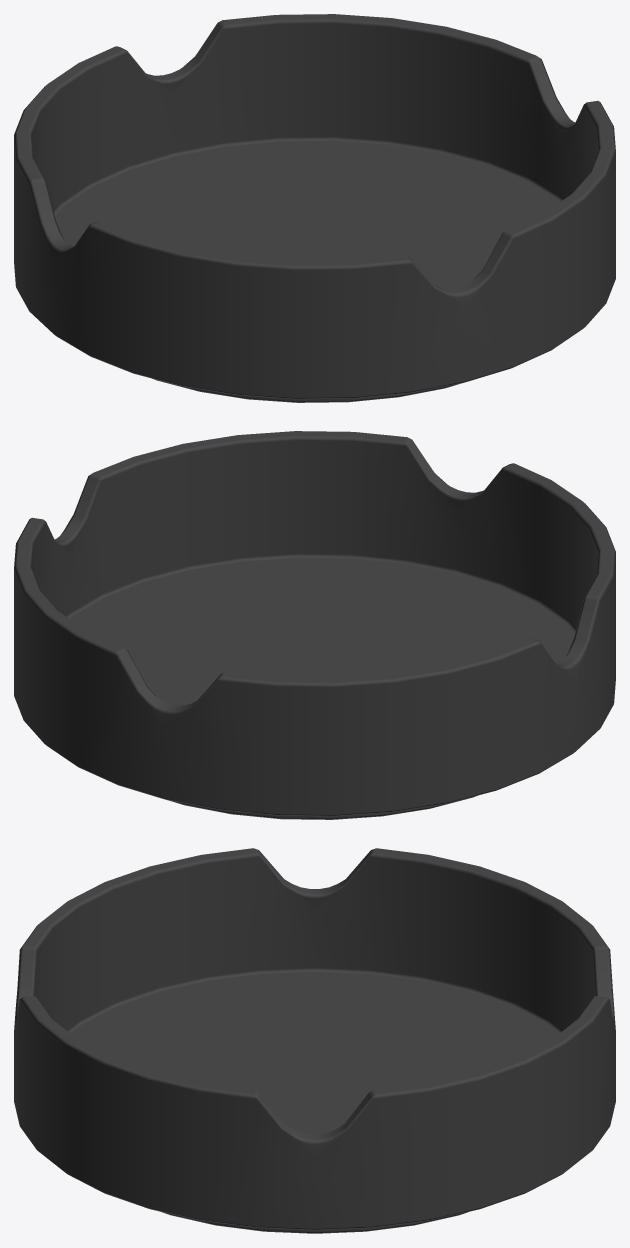
File: SM_AshtrayBlackS.fbx
The picture shows the model from 3 angles, top to bottom: view 1: azimuth 30°, elevation 25°; view 2: azimuth 150°, elevation 25°; view 3: azimuth 270°, elevation 25°; orthographic projection.
Parts seen in each view (by area): view 1: SM_AshtrayBlackS_LOD0; view 2: SM_AshtrayBlackS_LOD0; view 3: SM_AshtrayBlackS_LOD0.
Part boxes in pixels (<box>): SM_AshtrayBlackS_LOD0: <box>14,14,615,402</box>; SM_AshtrayBlackS_LOD0: <box>14,431,615,819</box>; SM_AshtrayBlackS_LOD0: <box>14,848,615,1233</box>.
Bounding box in the file's own units: 20.41 × 20.41 × 5.73.
1 material, 1 textured.
